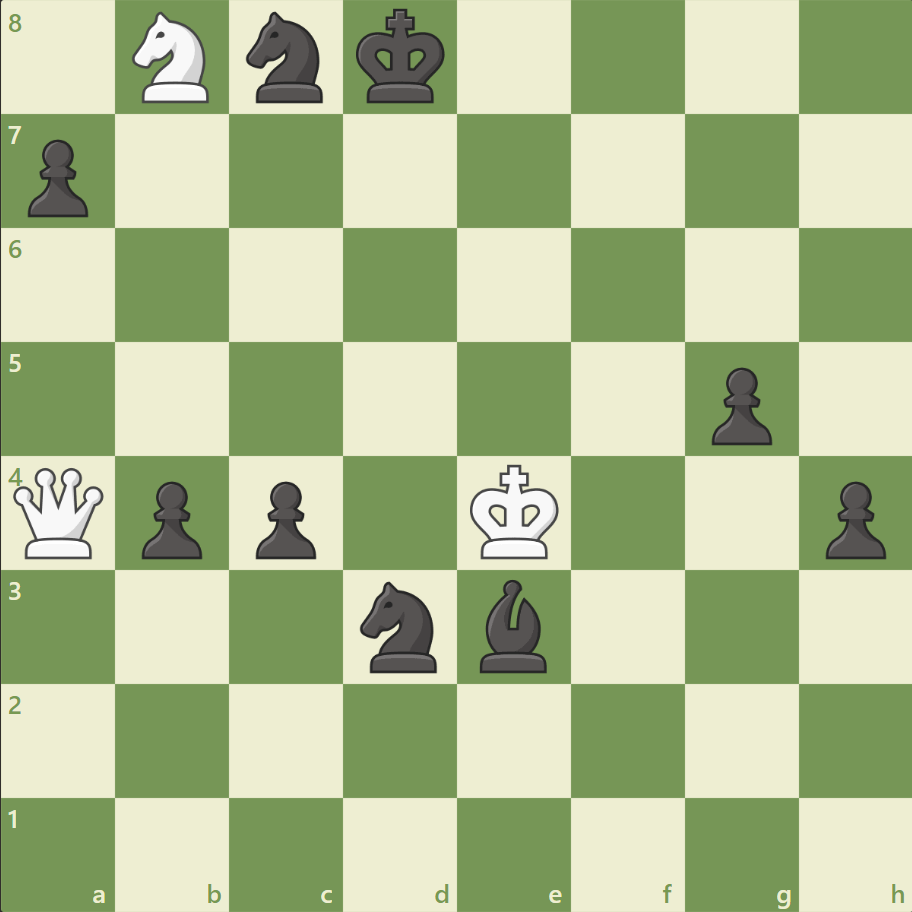K: (465, 458, 565, 566)
N: (124, 7, 222, 110)
Q: (10, 463, 109, 562)
b: (471, 574, 555, 676)
k: (351, 4, 451, 112)
n: (351, 575, 449, 677), (238, 7, 335, 110)
p: (20, 132, 95, 223), (701, 359, 776, 450), (133, 473, 208, 564), (247, 473, 322, 564), (815, 473, 889, 564)
